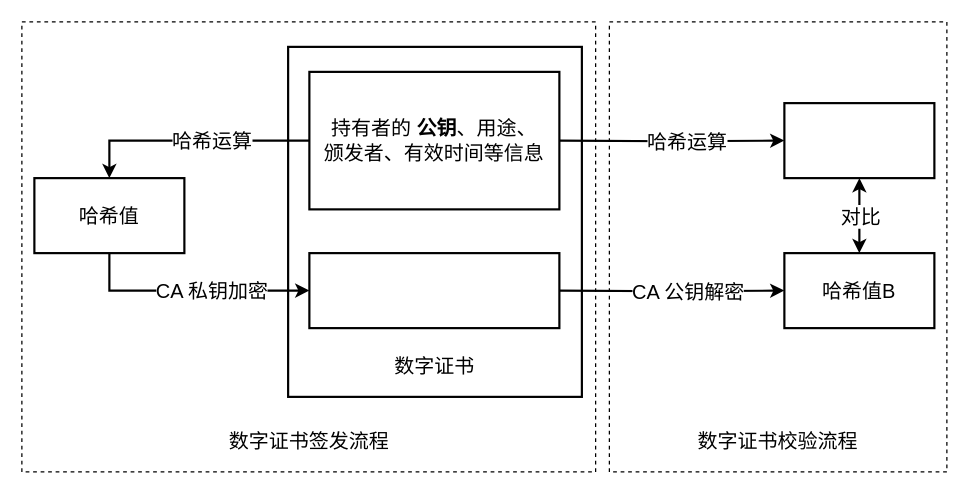
This 969x494 diagram has some shape labels left out. Here are the shapes that lost their labels. From the top down, the centre of each, then its label:
point 859,140: 哈希值A
point 434,290: 数字签名
